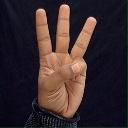hand: (34, 3, 97, 119)
